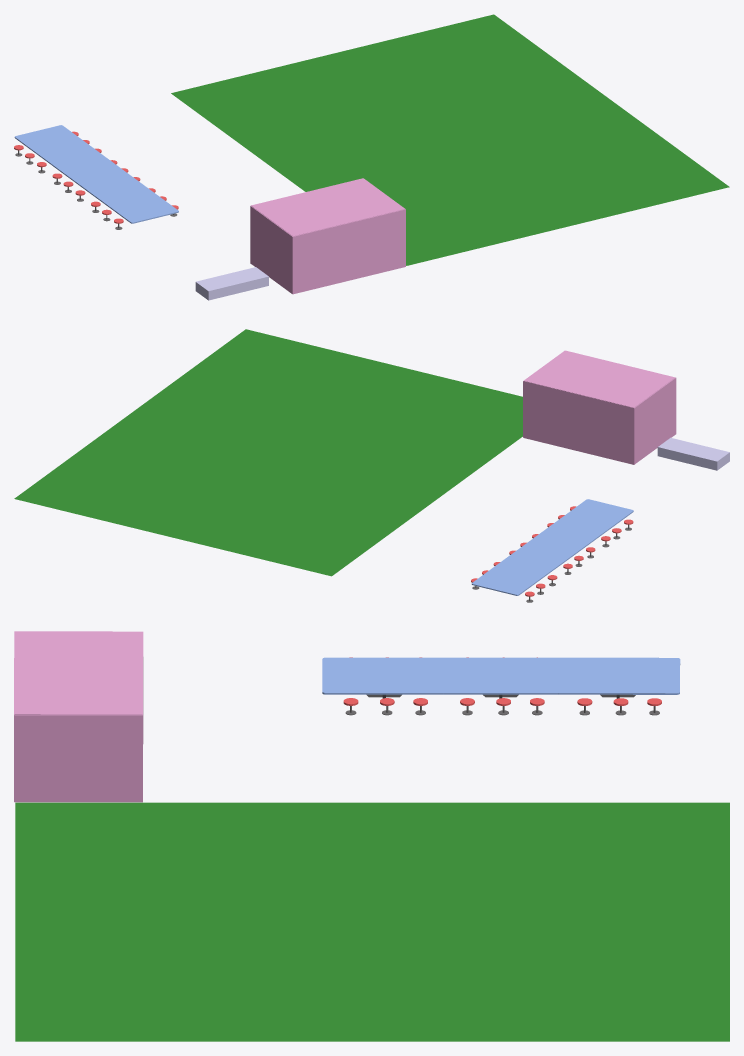
The model's file is extra_area.dae.
3 views of the same model, one above another, from view 1: azimuth 30°, elevation 25°; view 2: azimuth 150°, elevation 25°; view 3: azimuth 270°, elevation 25° (orthographic). The views are drawn at different scales.
Parts seen in each view (by area): view 1: Plane, table2.001, wall4, Cube.009, wall3, counter.001; view 2: Plane, table2.001, Cube.005, Cube.009, wall3, counter.001; view 3: Plane, table2.001, wall3.003, Cube.009.
Boxes of the visible parts, x1=… form: Plane: x1=171, y1=14, x2=729, y2=265; table2.001: x1=14, y1=125, x2=178, y2=229; wall4: x1=293, y1=209, x2=405, y2=294; Cube.009: x1=251, y1=178, x2=404, y2=236; wall3: x1=250, y1=206, x2=293, y2=294; counter.001: x1=195, y1=267, x2=268, y2=300; Plane: x1=14, y1=329, x2=522, y2=576; table2.001: x1=471, y1=499, x2=633, y2=602; Cube.005: x1=524, y1=381, x2=634, y2=464; Cube.009: x1=524, y1=350, x2=674, y2=407; wall3: x1=634, y1=377, x2=676, y2=464; counter.001: x1=657, y1=437, x2=729, y2=470; Plane: x1=15, y1=802, x2=729, y2=1041; table2.001: x1=322, y1=657, x2=680, y2=715; wall3.003: x1=14, y1=715, x2=142, y2=802; Cube.009: x1=15, y1=631, x2=142, y2=714.
Size of the model in its own units: 28.64 by 23.13 by 3.26.
